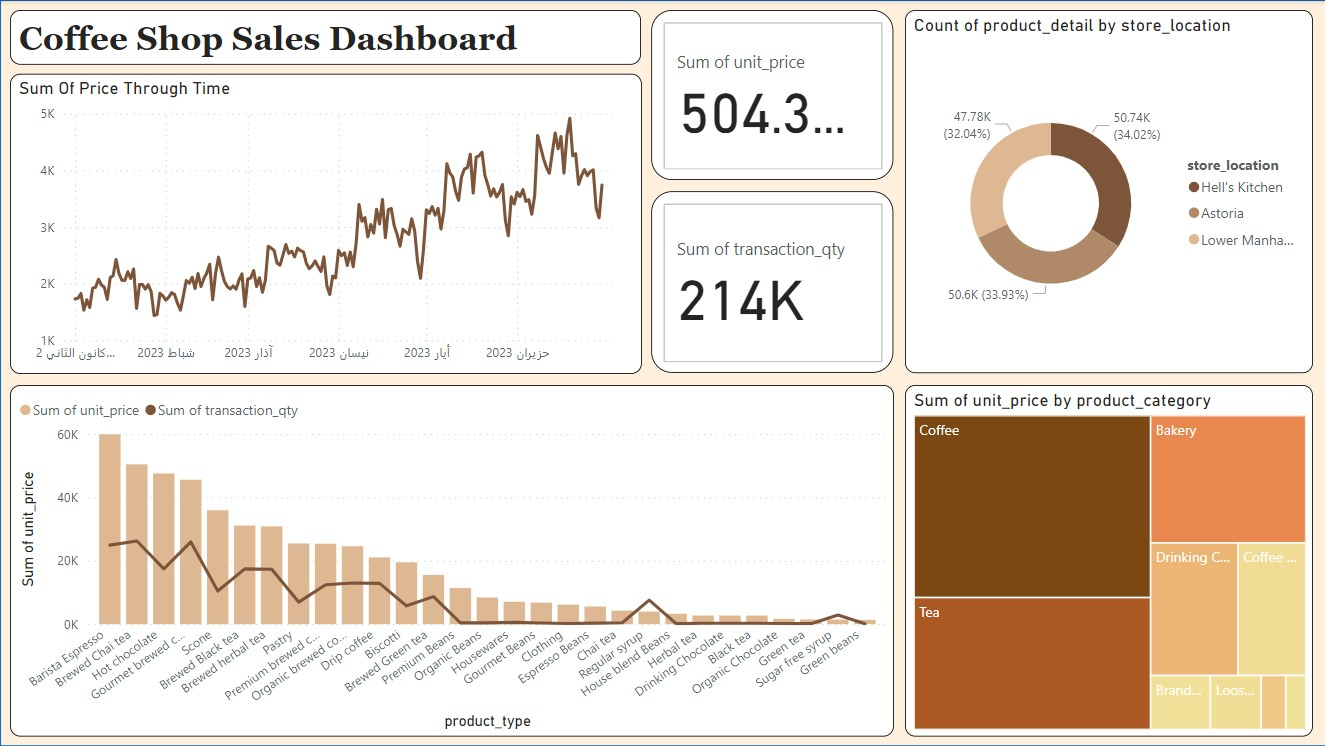

What the dashboard file says about the page in this screenshot:
{"tool":"powerbi","page":{"name":"Page 1","canvas":[1280,720],"ordinal":0},"visuals":[{"type":"shape","box":[0,0,1279.6,720],"z":0},{"type":"donutChart","fields":{"Category":["coffee_data.store_location"],"Y":["CountNonNull(coffee_data.product_detail)"]},"box":[873.7,9.7,393.7,350.6],"z":1000},{"type":"lineChart","title":"Sum Of Price Through Time","fields":{"Category":["coffee_data.transaction_date.Variation.Date Hierarchy.Year","coffee_data.transaction_date.Variation.Date Hierarchy.Quarter","coffee_data.transaction_date.Variation.Date Hierarchy.Month","coffee_data.transaction_date.Variation.Date Hierarchy.Day"],"Y":["Sum(coffee_data.unit_price)"]},"box":[9.7,71,609.4,289.4],"z":2000},{"type":"treemap","fields":{"Values":["Sum(coffee_data.unit_price)"],"Group":["coffee_data.product_category"]},"box":[873.7,371.5,393.7,339.5],"z":3000},{"type":"lineStackedColumnComboChart","fields":{"Y":["Sum(coffee_data.unit_price)"],"Category":["coffee_data.product_type"],"Y2":["Sum(coffee_data.transaction_qty)"]},"box":[9.7,371.5,852.9,339.5],"z":4000},{"type":"cardVisual","fields":{"Data":["Sum(coffee_data.unit_price)"]},"box":[628.9,9.7,233.7,164.2],"z":5000},{"type":"cardVisual","fields":{"Data":["Sum(coffee_data.transaction_qty)"]},"box":[628.9,185,233.7,175.3],"z":6000},{"type":"textbox","box":[9.6,9.6,609,53],"z":7000}]}

Visuals, with their boxes in screenshot pixels (x1, y1, x2, y2), scaled from the page's 1280x720 canvas onto the 1325x746 screenshot:
shape: locate(0, 0, 1324, 745)
donutChart - coffee_data.store_location x CountNonNull(coffee_data.product_detail): locate(904, 10, 1312, 373)
"Sum Of Price Through Time" lineChart: locate(10, 74, 641, 373)
treemap - Sum(coffee_data.unit_price) x coffee_data.product_category: locate(904, 385, 1312, 737)
lineStackedColumnComboChart - Sum(coffee_data.unit_price) x coffee_data.product_type: locate(10, 385, 893, 737)
cardVisual - Sum(coffee_data.unit_price): locate(651, 10, 893, 180)
cardVisual - Sum(coffee_data.transaction_qty): locate(651, 192, 893, 373)
textbox: locate(10, 10, 640, 65)
